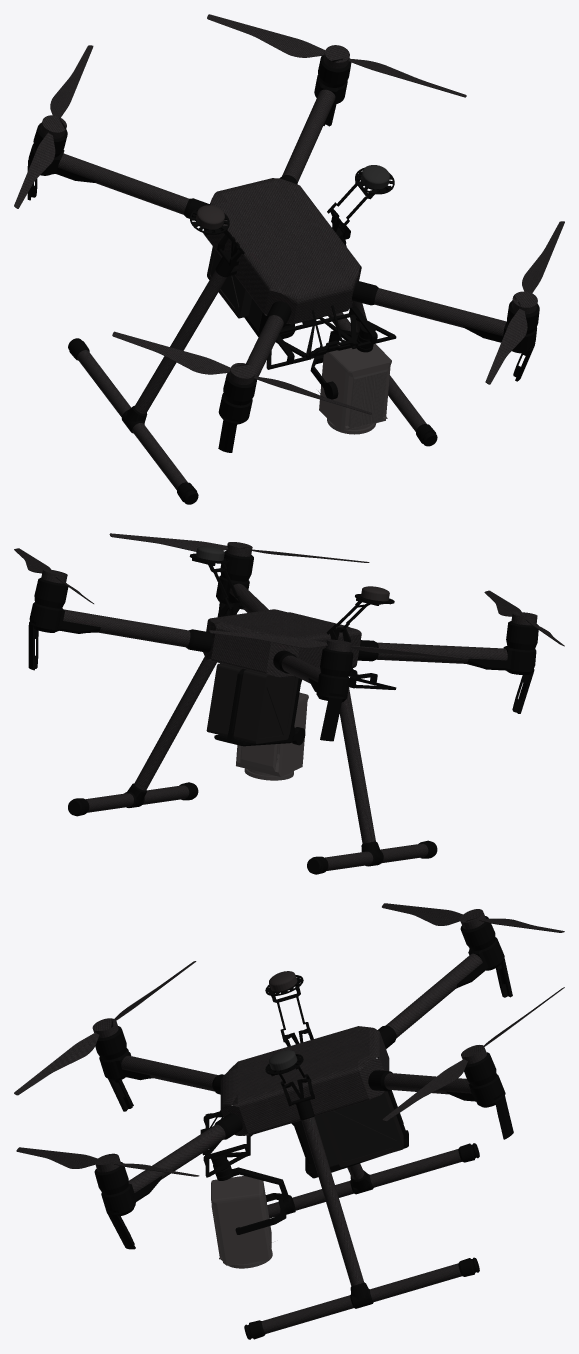
The model's file is DJI_Matrice_M210_RTK.glb.
The picture shows the model from 3 angles, top to bottom: view 1: azimuth 30°, elevation 25°; view 2: azimuth 150°, elevation 25°; view 3: azimuth 270°, elevation 25°; orthographic projection.
Parts seen in each view (by area): view 1: Matrice_m200_Material3155_0, Circle048_Material3158_0, Sphere000_Material3364_0, vrtula_1007_Material3358_0, Circle044_Material3159_0, vrtula_1005_Material3356_0, vrtula_1006_Material3357_0, vrtula_1014_Material3180_0, Cylinder007_Material3149_0, Cylinder008_Material3147_0, Sphere000_Material3365_0, Cylinder006_Material3152_0 (+9 smaller); view 2: Matrice_m200_Material3155_0, Cube167_Material3157_0, Sphere001_Material3361_0, Sphere000_Material3364_0, Cylinder010_Material3146_0, Cylinder006_Material3152_0, Circle048_Material3158_0, Cylinder007_Material3150_0, Cylinder010_Material3145_0, Cylinder006_Material3151_0, Sphere001_Material3362_0, Sphere000_Material3365_0 (+9 smaller); view 3: Matrice_m200_Material3155_0, Sphere001_Material3361_0, Circle048_Material3158_0, Cube167_Material3157_0, Cylinder008_Material3148_0, Cylinder010_Material3146_0, Sphere000_Material3364_0, Cylinder007_Material3150_0, Sphere001_Material3362_0, Cylinder006_Material3152_0, Cylinder007_Material3149_0, vrtula_1005_Material3356_0 (+10 smaller).
Boxes of the visible parts, x1,y1,x2,y2 form: Matrice_m200_Material3155_0: [203, 178, 361, 324]; Circle048_Material3158_0: [318, 343, 391, 434]; Sphere000_Material3364_0: [77, 270, 227, 489]; vrtula_1007_Material3358_0: [207, 14, 466, 97]; Circle044_Material3159_0: [266, 305, 396, 369]; vrtula_1005_Material3356_0: [112, 331, 371, 414]; vrtula_1006_Material3357_0: [14, 45, 93, 208]; vrtula_1014_Material3180_0: [485, 221, 564, 384]; Cylinder007_Material3149_0: [58, 153, 189, 214]; Cylinder008_Material3147_0: [374, 288, 506, 336]; Sphere000_Material3365_0: [68, 208, 244, 504]; Cylinder006_Material3152_0: [218, 301, 291, 452]; Matrice_m200_Material3155_0: [203, 609, 361, 677]; Cube167_Material3157_0: [206, 663, 298, 743]; Sphere001_Material3361_0: [85, 657, 216, 812]; Sphere000_Material3364_0: [325, 686, 428, 870]; Cylinder010_Material3146_0: [28, 578, 212, 670]; Cylinder006_Material3152_0: [357, 616, 538, 713]; Circle048_Material3158_0: [236, 692, 308, 780]; Cylinder007_Material3150_0: [273, 648, 353, 741]; Cylinder010_Material3145_0: [63, 609, 190, 647]; Cylinder006_Material3151_0: [377, 642, 507, 663]; Sphere001_Material3362_0: [68, 553, 244, 816]; Sphere000_Material3365_0: [307, 594, 437, 874]; Matrice_m200_Material3155_0: [220, 1026, 389, 1135]; Sphere001_Material3361_0: [261, 1116, 461, 1333]; Circle048_Material3158_0: [211, 1176, 272, 1268]; Cube167_Material3157_0: [314, 1090, 403, 1167]; Cylinder008_Material3148_0: [94, 1113, 242, 1249]; Cylinder010_Material3146_0: [368, 1052, 513, 1139]; Sphere000_Material3364_0: [267, 1149, 461, 1218]; Cylinder007_Material3150_0: [378, 916, 512, 1048]; Sphere001_Material3362_0: [244, 1054, 479, 1339]; Cylinder006_Material3152_0: [95, 1025, 224, 1111]; Cylinder007_Material3149_0: [386, 953, 482, 1038]; vrtula_1005_Material3356_0: [14, 961, 196, 1095].
Size of the model in its own units: 76.26 by 52.77 by 81.55.
Materials: 25 (11 with a texture image).
